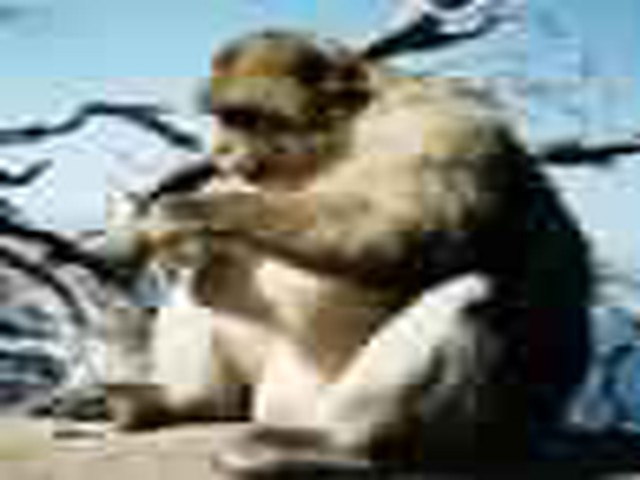Monkey: (105, 14, 603, 473)
